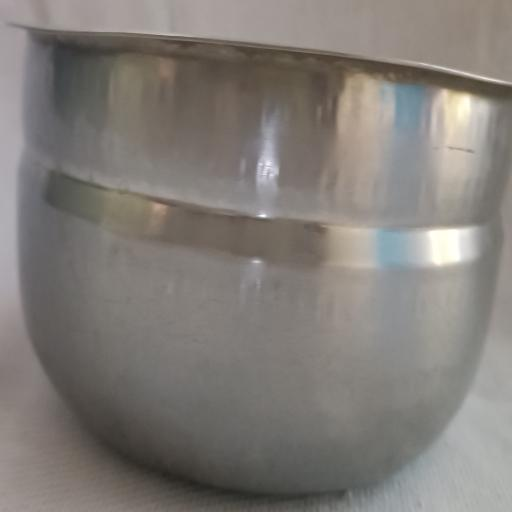vessel: (19, 30, 512, 493)
